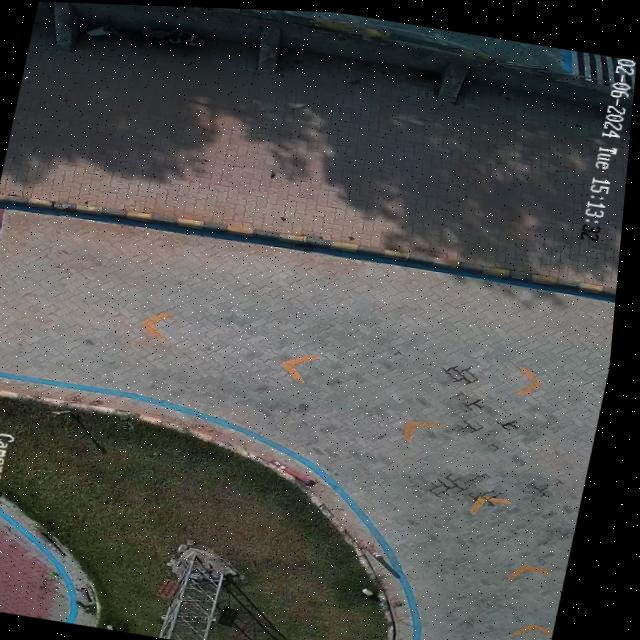No Car: (0, 1, 637, 640)
